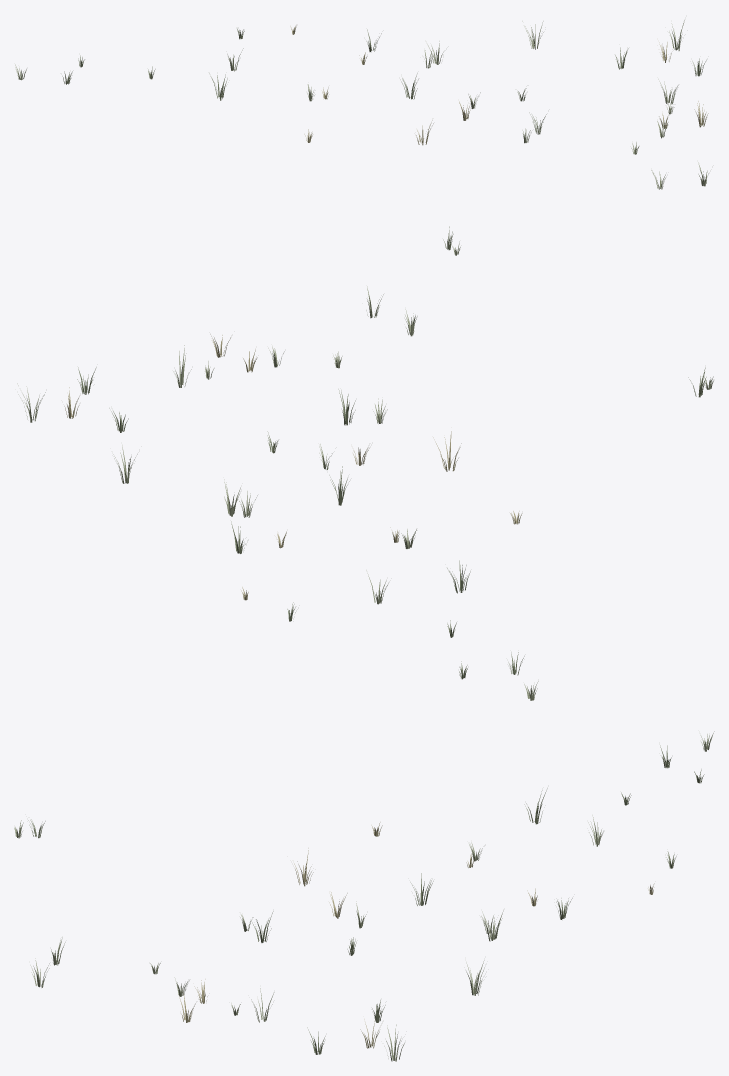
Rendered from AE_Grass_1_-2.fbx.
3 views of the same model, one above another, from view 1: azimuth 30°, elevation 25°; view 2: azimuth 150°, elevation 25°; view 3: azimuth 270°, elevation 25° (orthographic). The views are drawn at different scales.
Visible parts, largest first — view 1: AE_Grass_1_-2_LOD0; view 2: AE_Grass_1_-2_LOD0; view 3: AE_Grass_1_-2_LOD0.
Part boxes in pixels (x1,y1,x2,y2): AE_Grass_1_-2_LOD0: (15, 20, 708, 255); AE_Grass_1_-2_LOD0: (17, 286, 713, 700); AE_Grass_1_-2_LOD0: (14, 731, 714, 1061).
Size of what is drawn, in the model's own units: 1854 by 108 by 1732.
